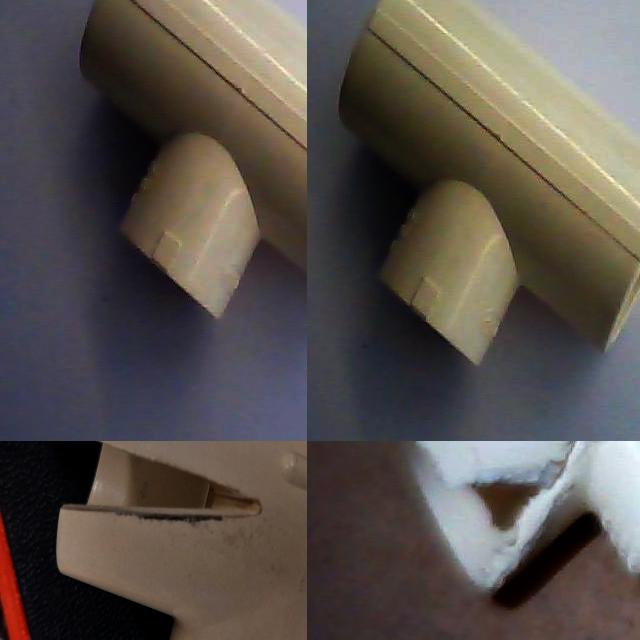Defective: (440, 441, 562, 591), (121, 441, 158, 520)
T Joint: (336, 0, 640, 368), (78, 0, 307, 320), (55, 441, 307, 640), (397, 441, 640, 600)
